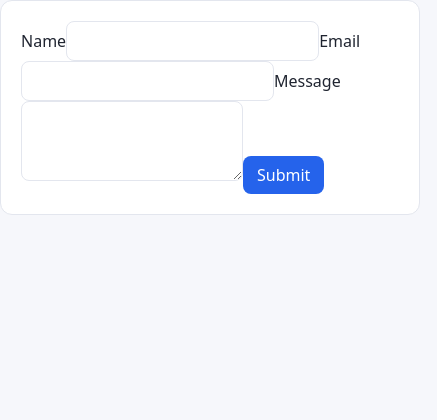
Test case: Contact Form › shows the submitted data and clears the fields
Type "John Doe" into the field labelled "Name". click: (193, 41)
box: [66,21,319,61]
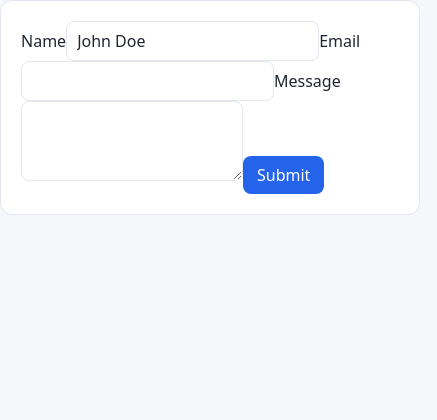
Type "john@example.com" into the field labelled "Email". click: (148, 81)
box: [21,61,274,101]
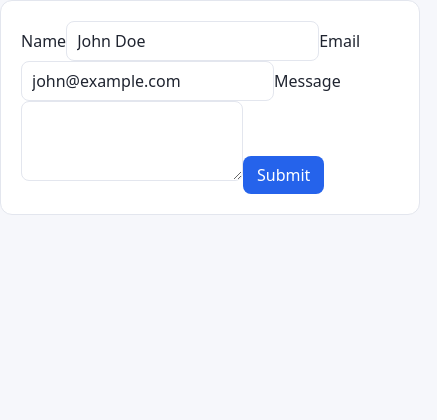
Type "Hello there!" into the text box labelled "Message". click: (132, 141)
box: [21,101,243,181]
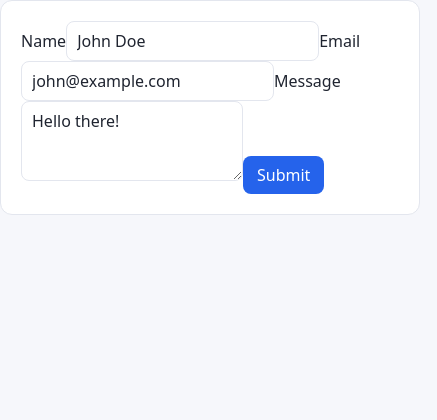
Click the button "Submit". click: click(284, 175)
box: [243,156,324,194]
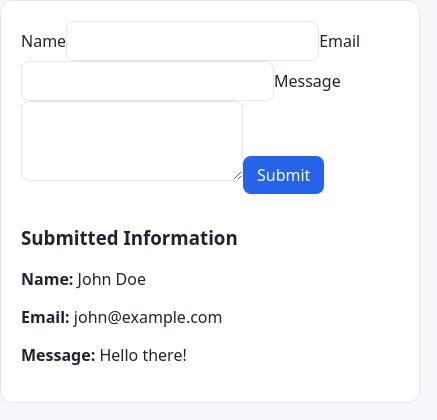
Expected: the element with test id "submitted-data" shows "John Doe", [78,268,146,290]
Expected: the element with test id "submitted-data" shows "john@example.com", [74,306,222,328]
Expected: the element with test id "submitted-data" shows "Hello there!", [99,344,187,366]
